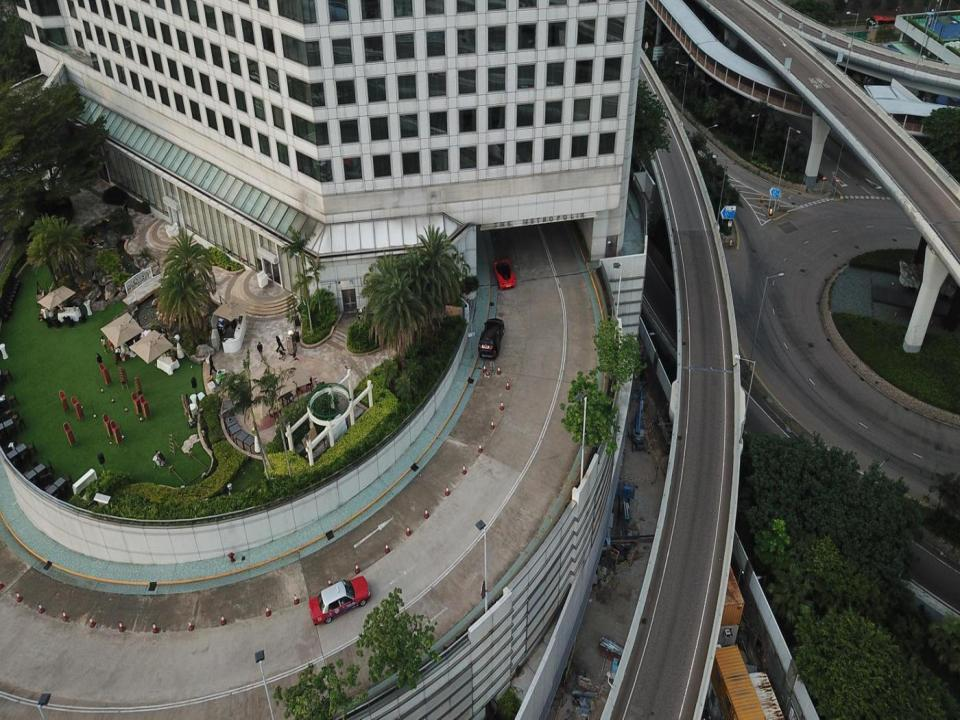bus: (864, 15, 898, 39)
car: (308, 576, 370, 625), (478, 318, 505, 359), (494, 258, 516, 288)
